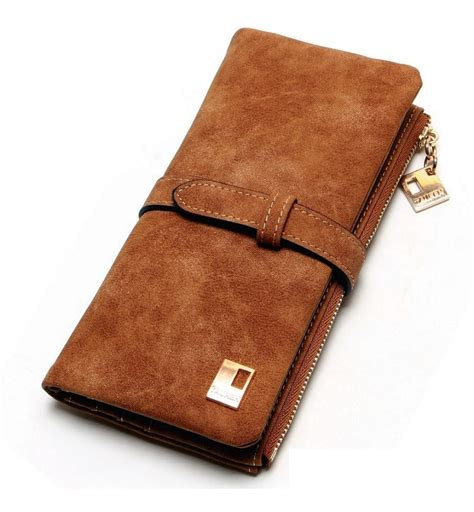gamuza: (43, 28, 422, 447)
